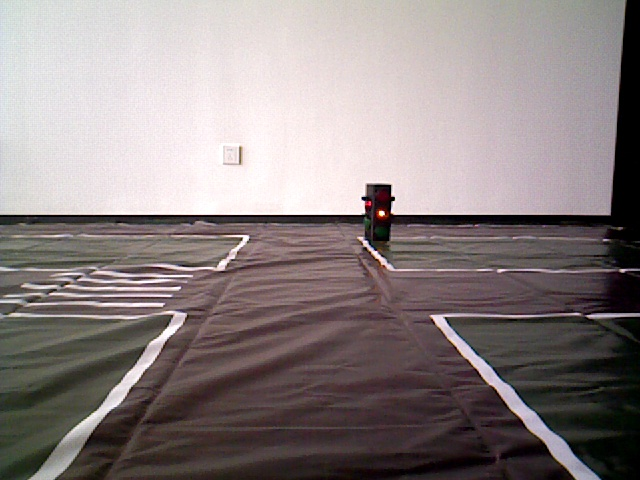yellow: (366, 182, 391, 243)
